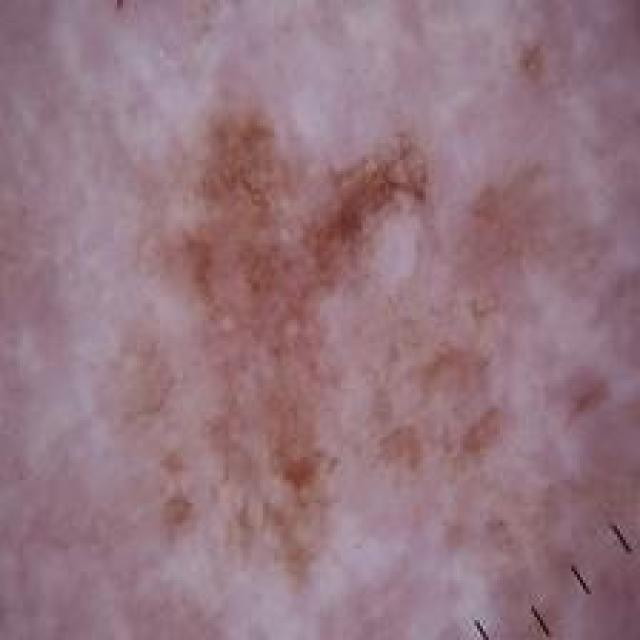Cancer: (179, 86, 446, 561)
